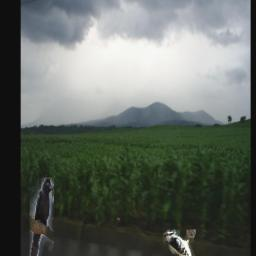Crow: (31, 179, 55, 256)
Woodpecker: (163, 229, 196, 256)
